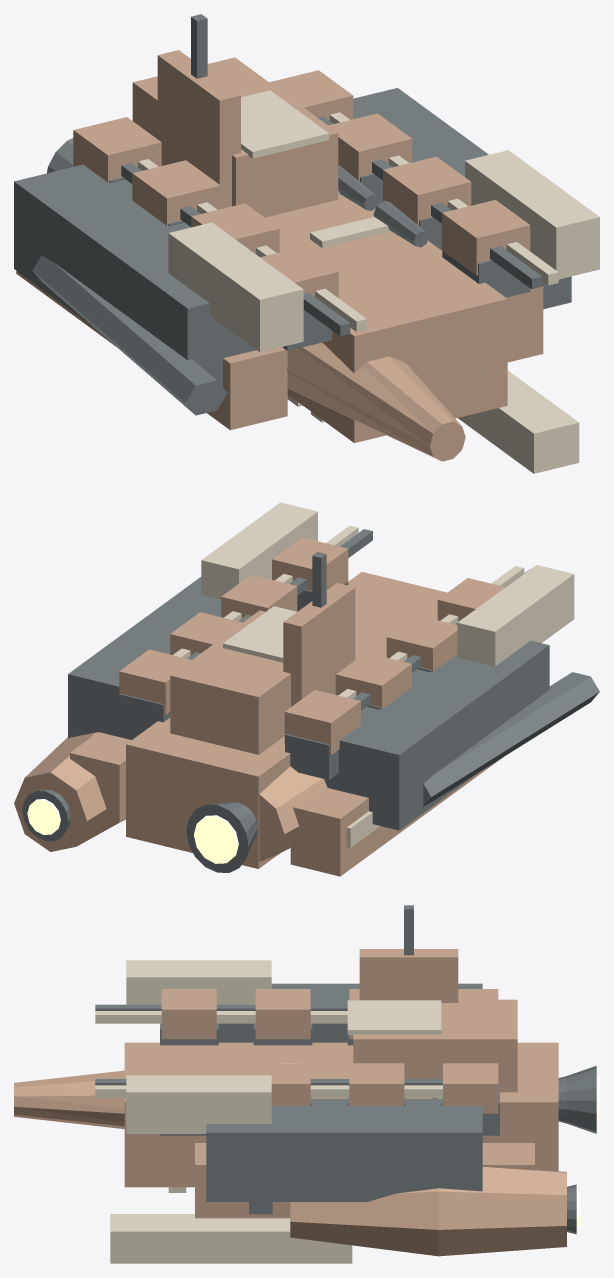
The picture shows the model from 3 angles, top to bottom: view 1: azimuth 30°, elevation 25°; view 2: azimuth 150°, elevation 25°; view 3: azimuth 270°, elevation 25°; orthographic projection. The views are drawn at different scales.
Size of the model in its own units: 13.59 by 10.6 by 19.99.
